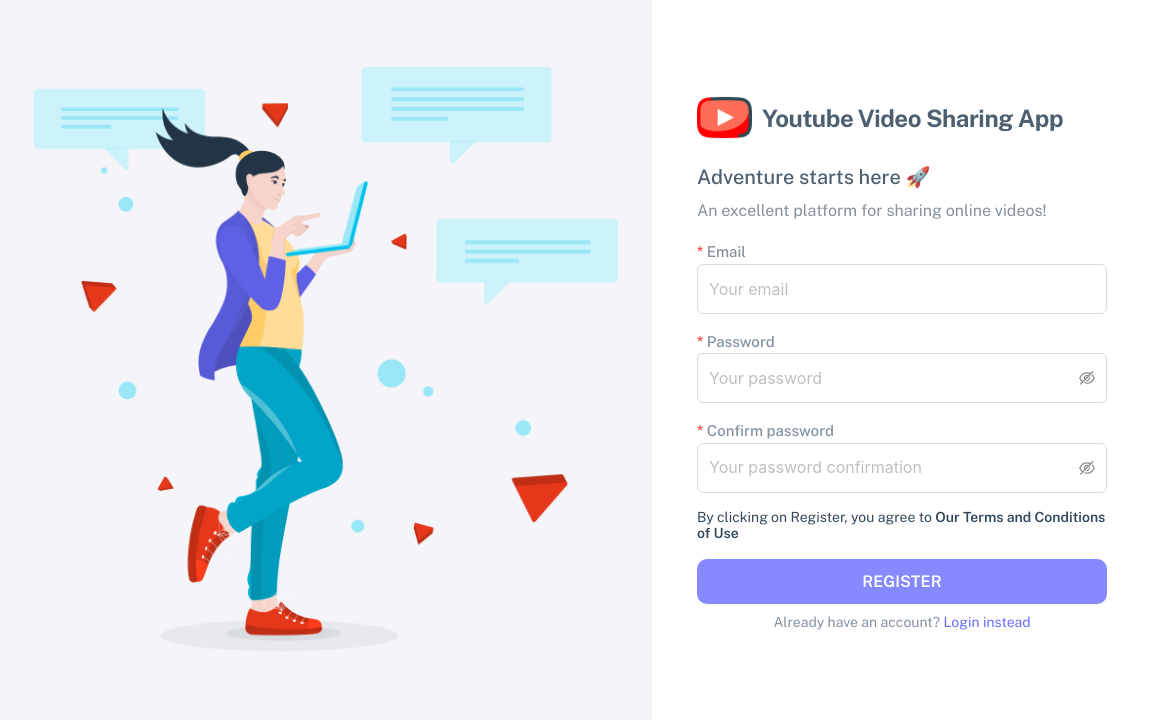
Register Page › submits the register form in case empty password, not empty email, not empty password confirm
Type "client@gmail.com" into the field with placeholder "Your email" at (902,289), box [697,264,1107,314]
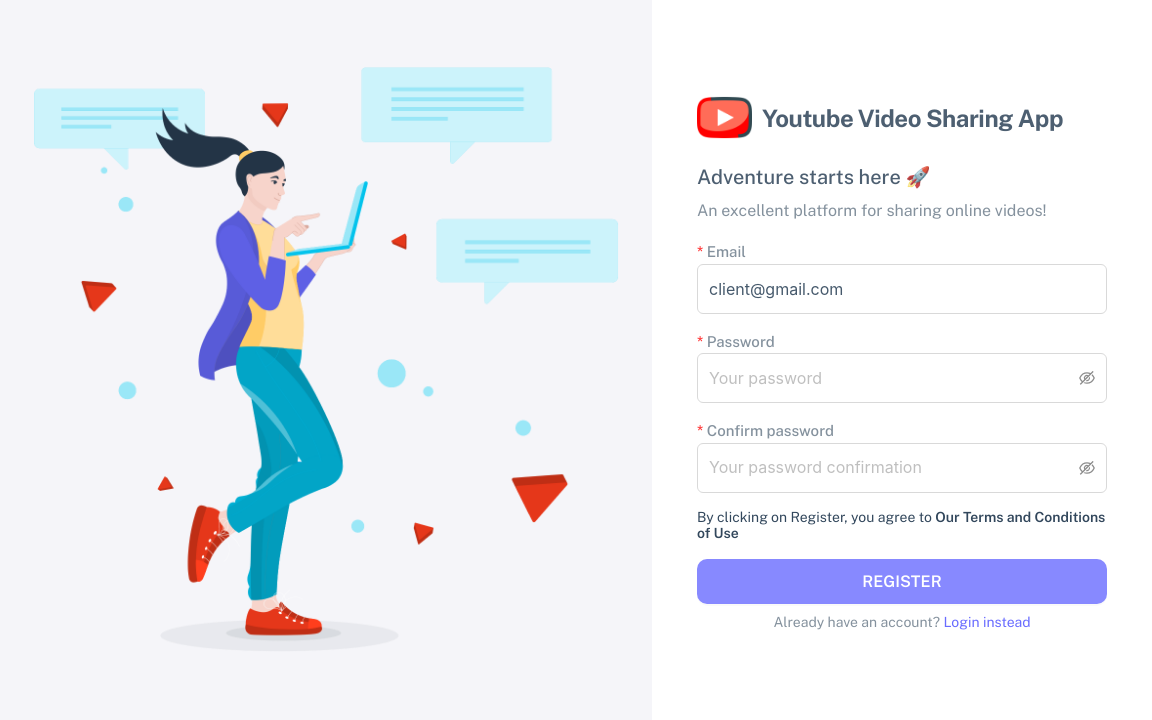
Type "123456" into the password field with placeholder "Your password confirmation" at (892,468), box [709,448,1075,488]
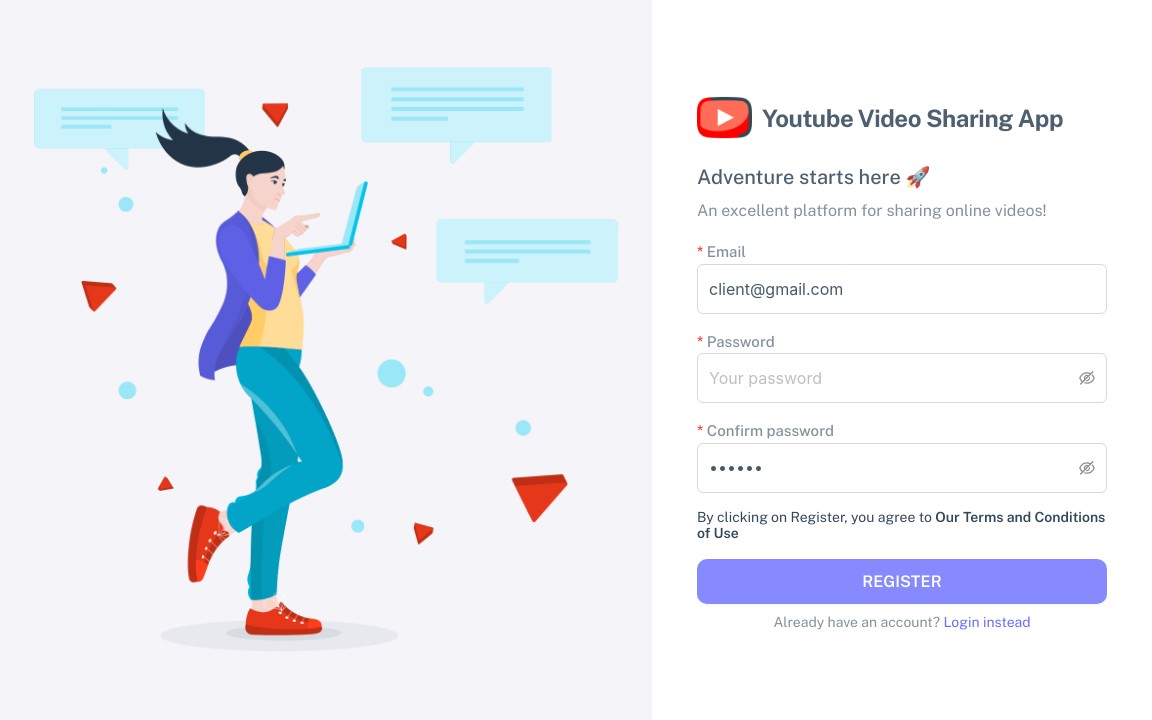
Click the button "REGISTER" at (902,581), box [697,559,1107,604]
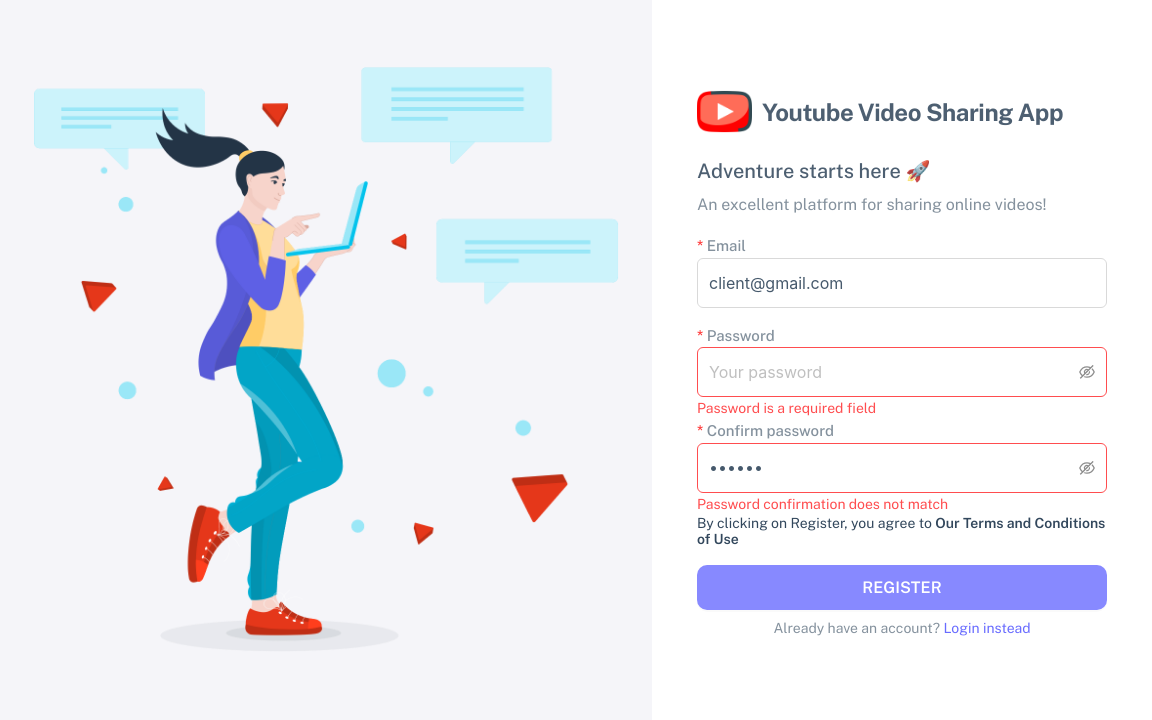
Check: the text "Password is a required field" is shown, box [697,400,876,416]
